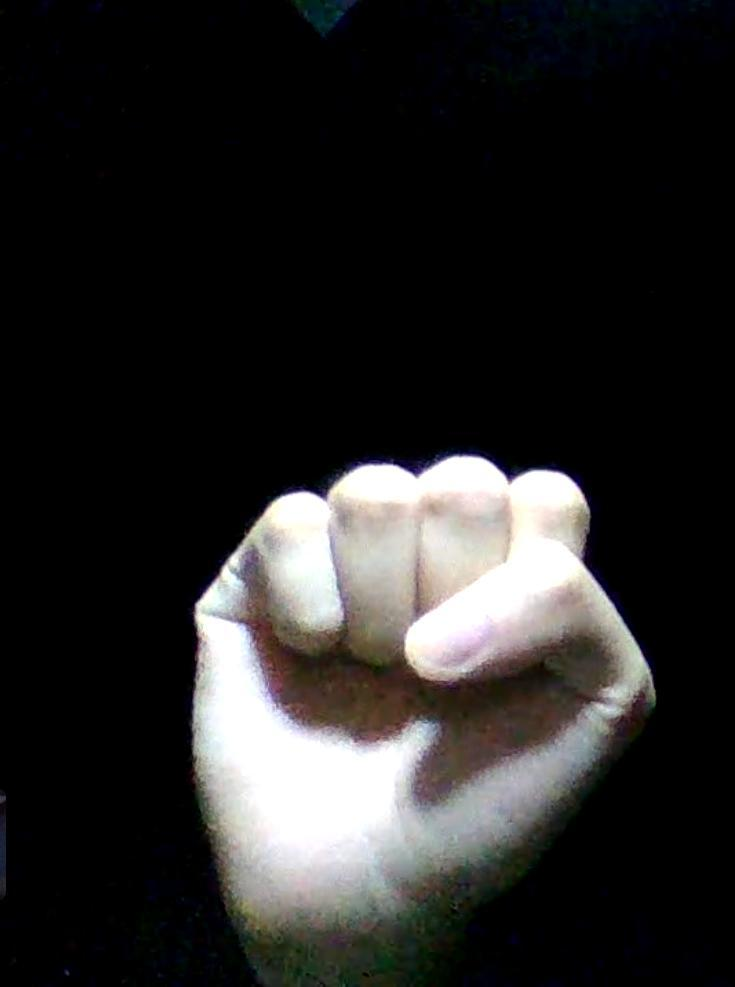a: (192, 457, 658, 935)
